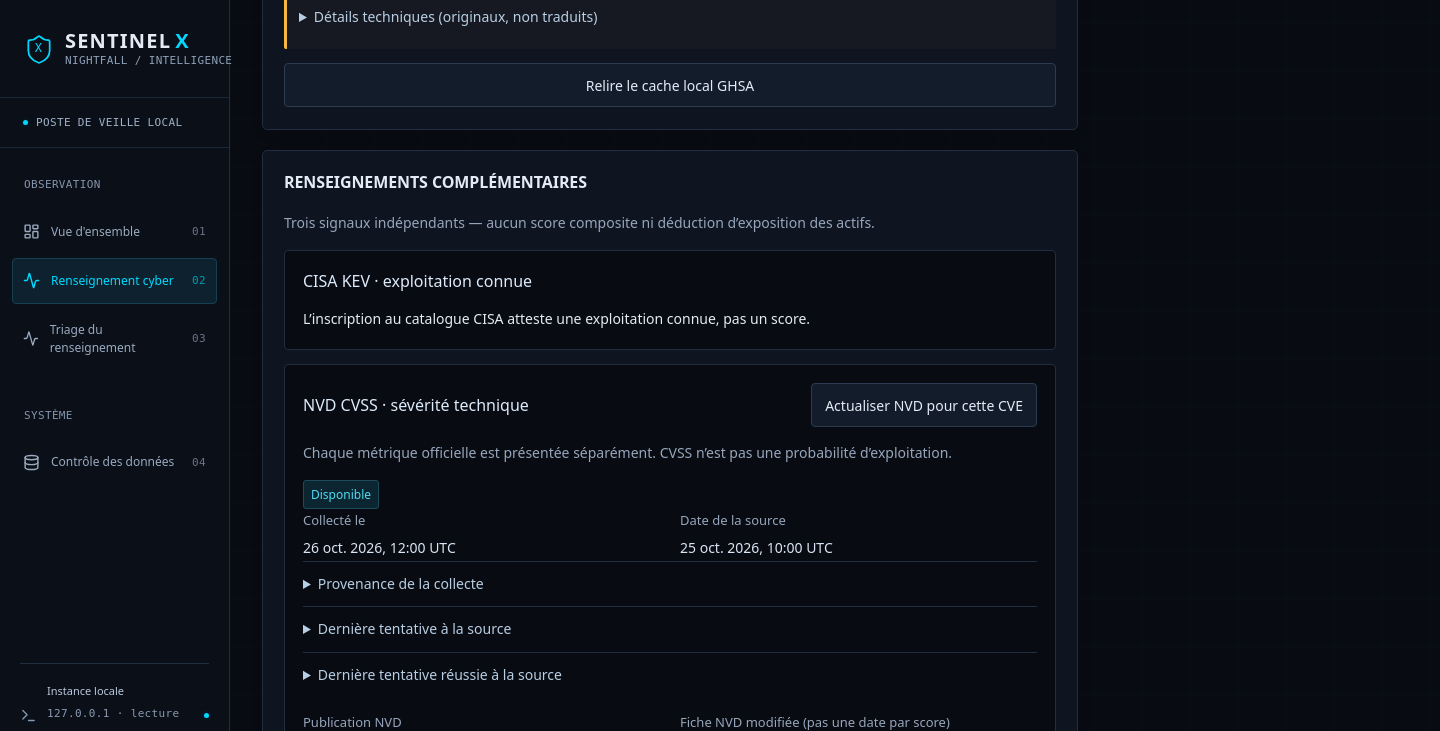
Scenario: manually refreshes NVD once, with the guard header, then verifies the exact local record
(page scrolled)
Click the button with test id "nvd-action": (924, 405) x1=811 y1=383 x2=1037 y2=427
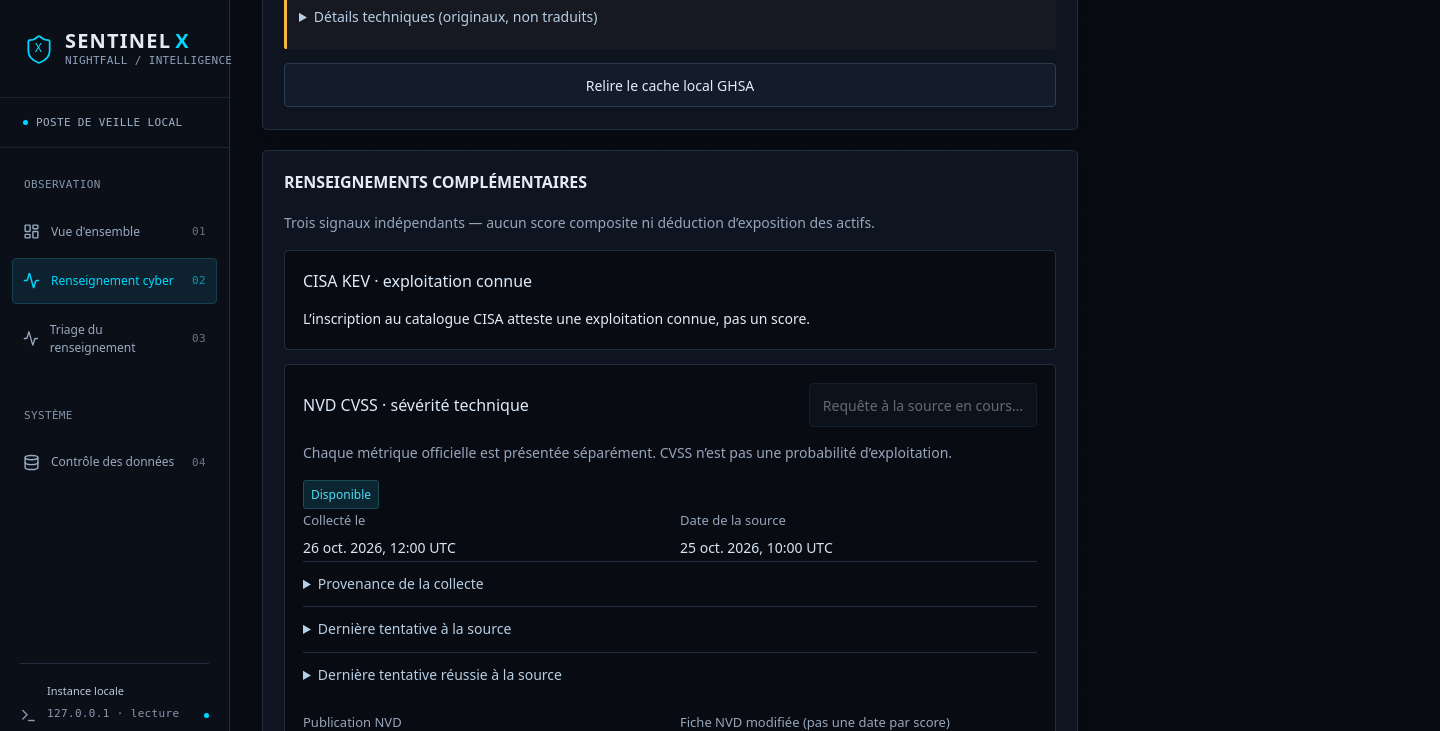
Click the button with test id "nvd-action": (923, 405) x1=809 y1=383 x2=1037 y2=427
(page scrolled)
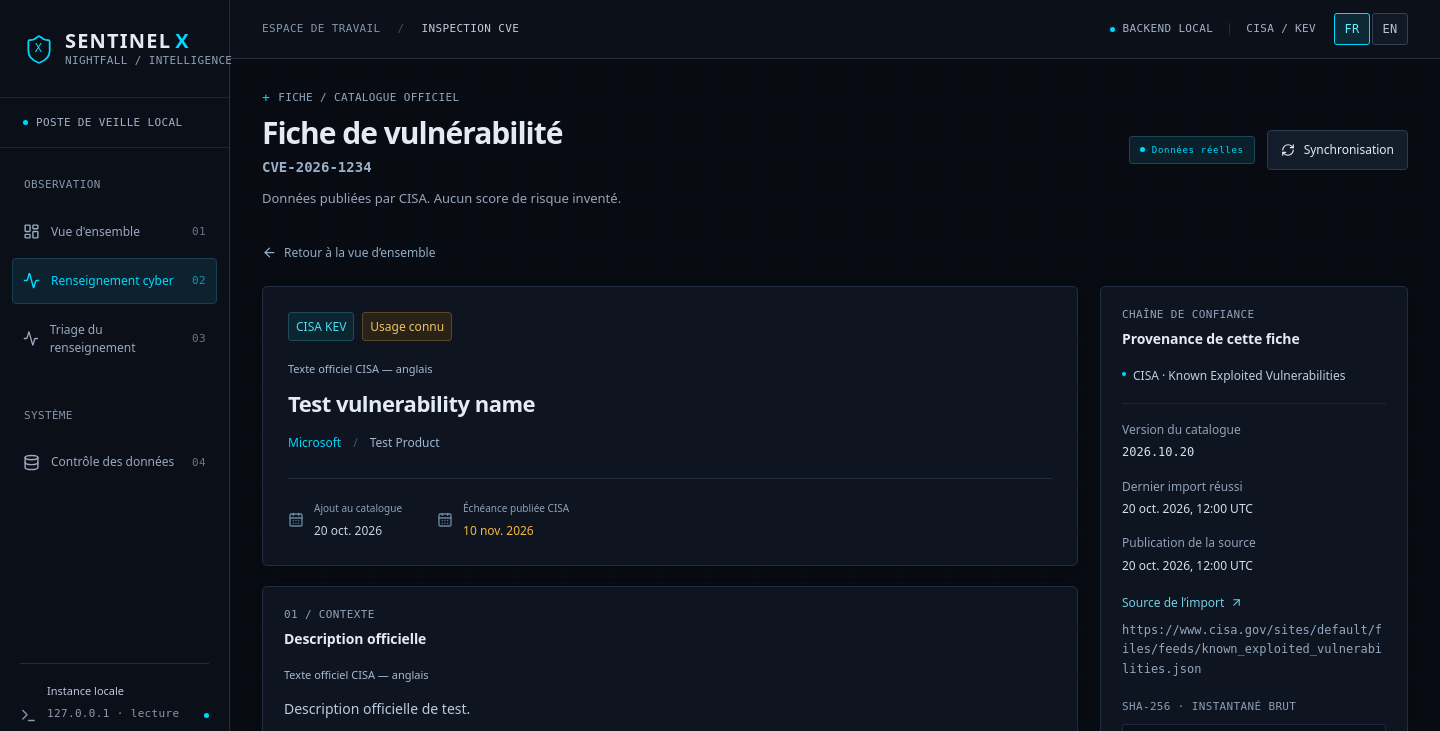
Click the button with test id "language-en": (1390, 29) x1=1372 y1=13 x2=1408 y2=45
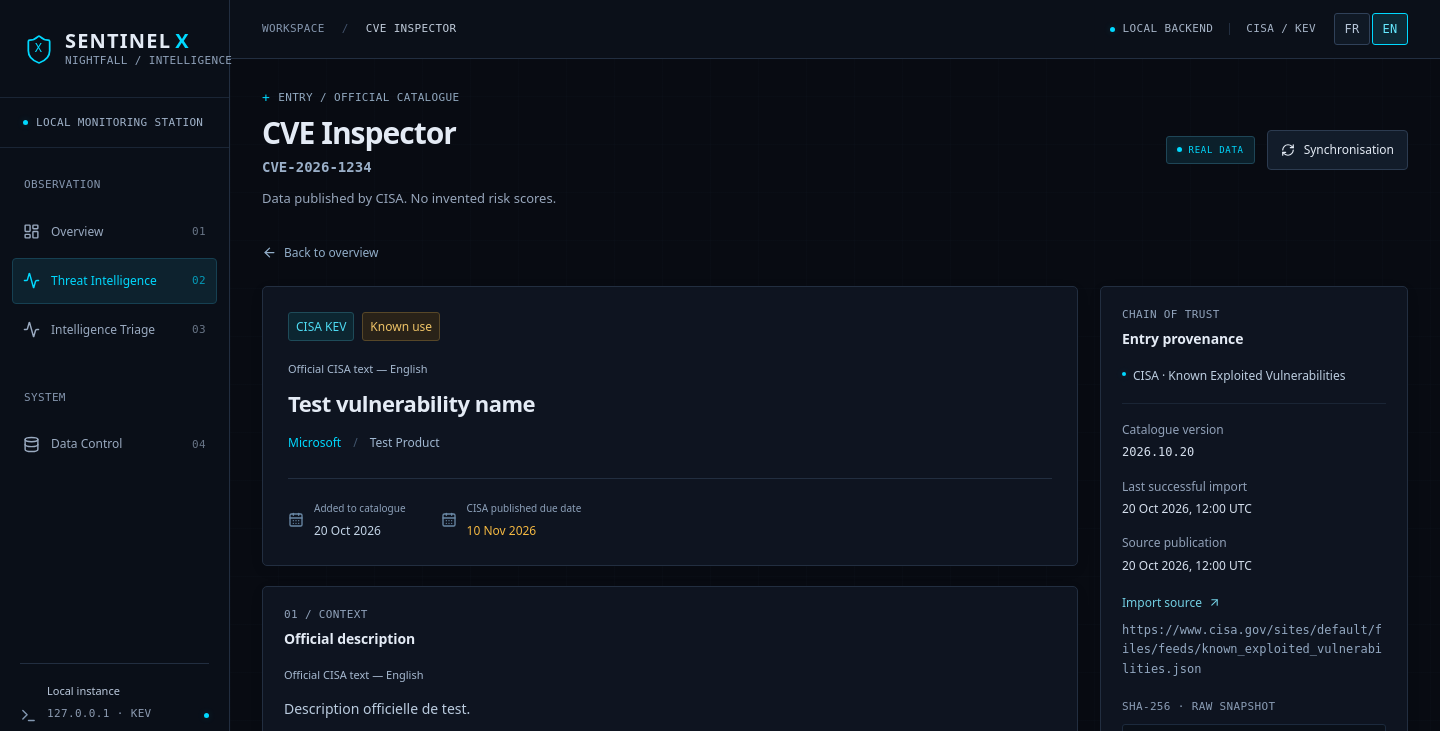
Click the button with test id "language-fr": (1352, 29) x1=1334 y1=13 x2=1370 y2=45
(page scrolled)
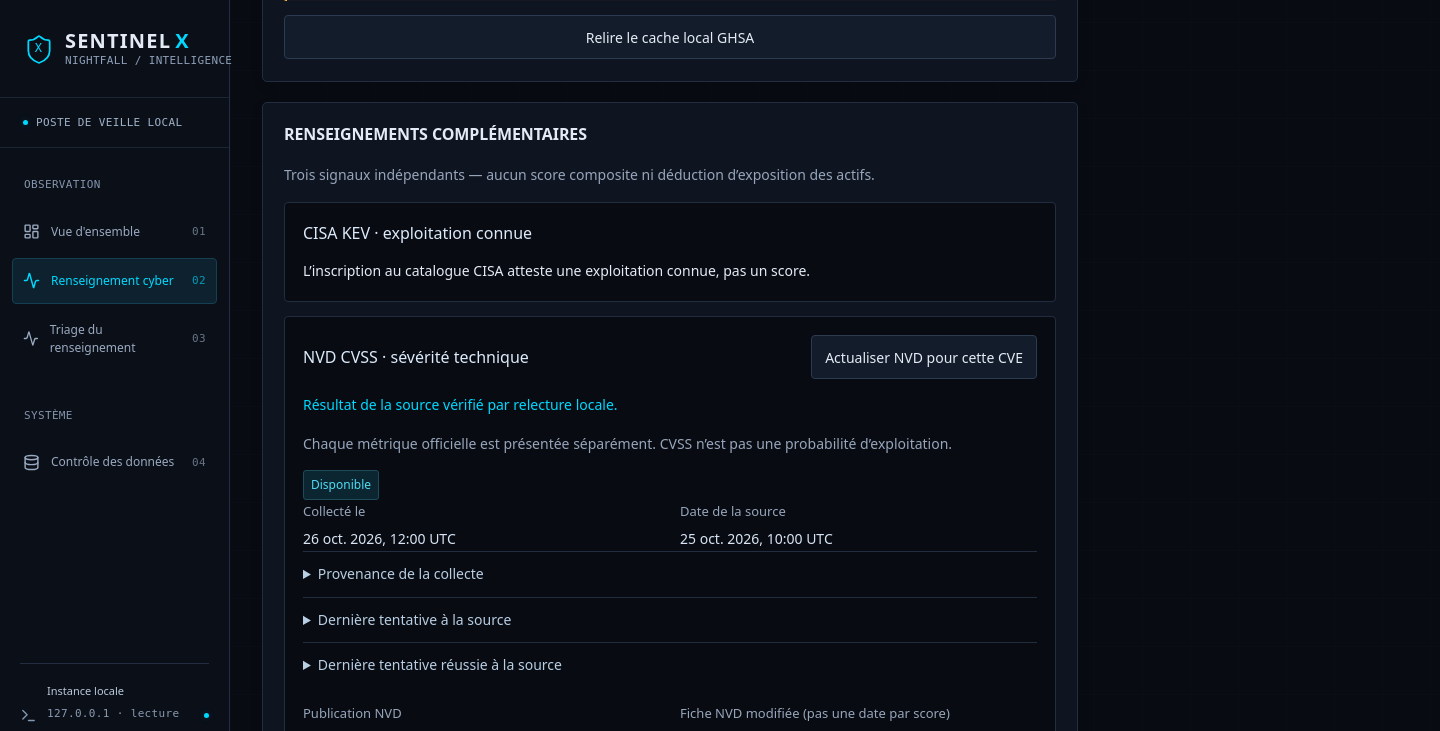
Now the text "Résultat de la source vérifié par relecture locale." is shown, box x1=303 y1=395 x2=618 y2=414
